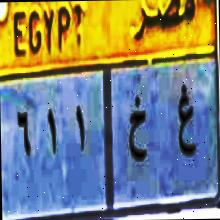1: (71, 104, 87, 156), (46, 106, 58, 162)
6: (14, 102, 32, 160)
ghayn: (174, 76, 196, 165)
khaa: (124, 95, 148, 167)
